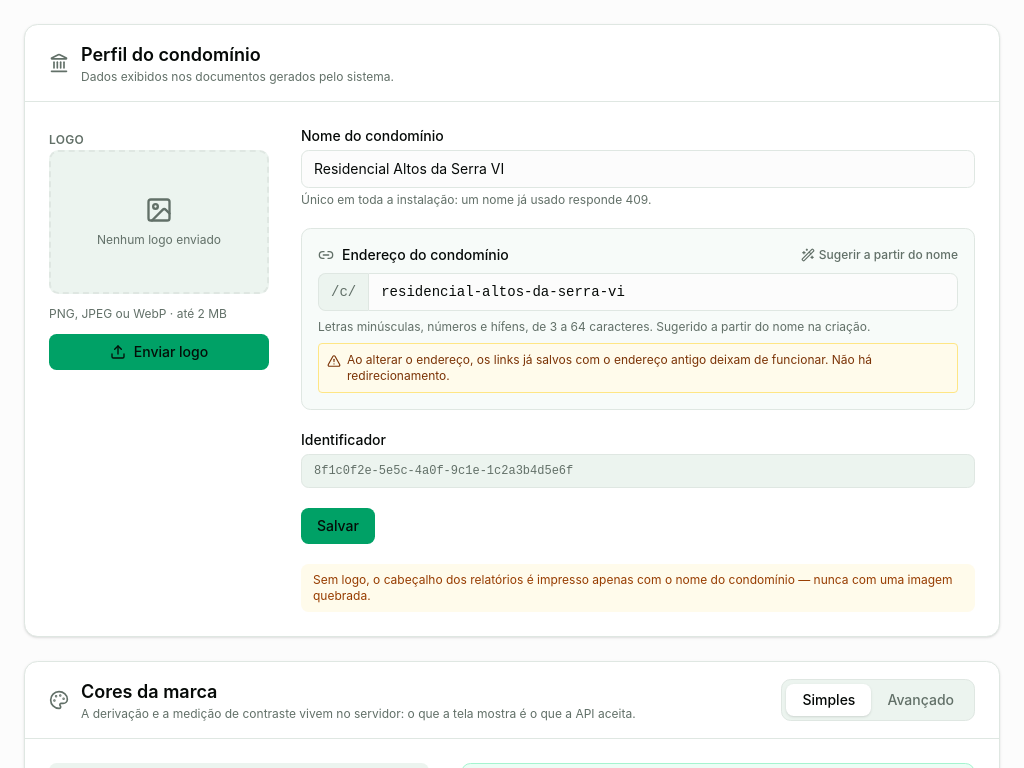
it: pasting an advanced palette › offers the paste button in advanced mode only
The image size is (1024, 768).
Check: the button "Colar paleta" is not shown
Click the button "Avançado": point(921, 700) [871,684,970,716]
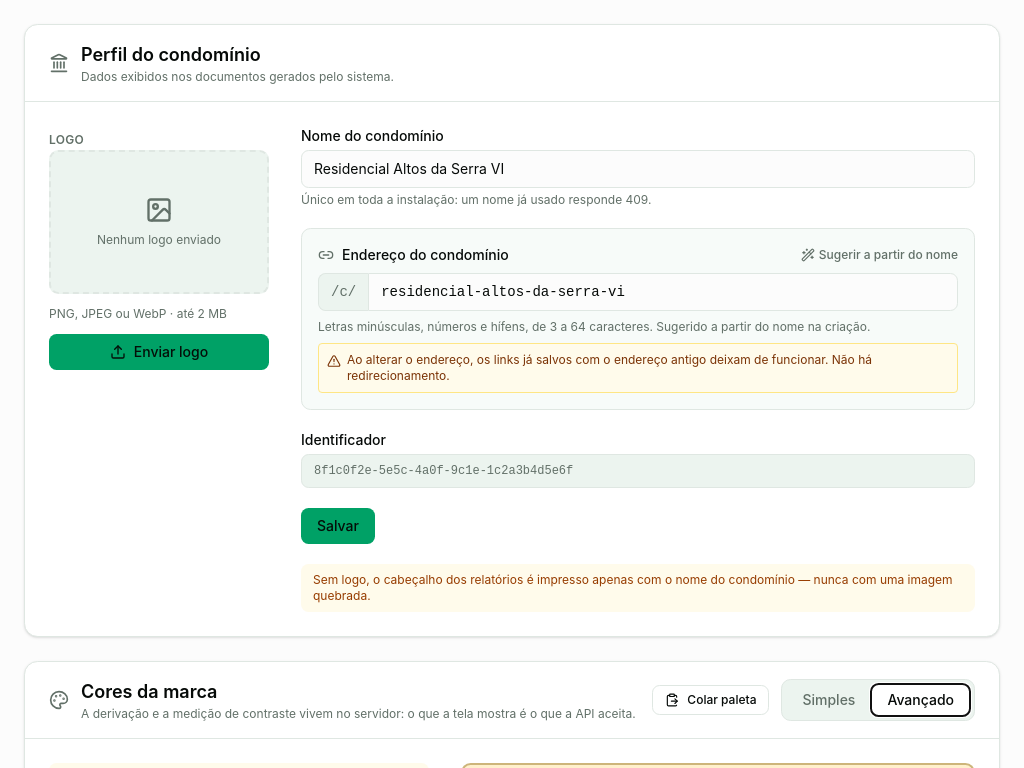
Check: the button "Colar paleta" is shown, box [652,685,769,715]
